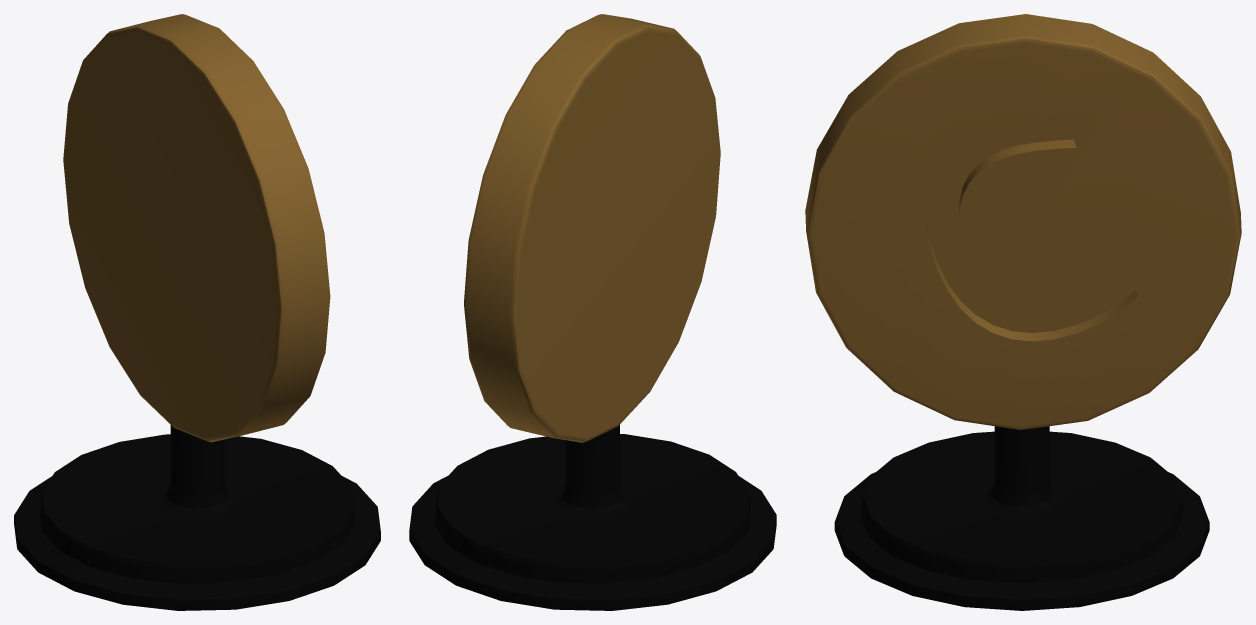
File: coin_item.fbx
3 views of the same model, side by side, from view 1: azimuth 30°, elevation 25°; view 2: azimuth 150°, elevation 25°; view 3: azimuth 270°, elevation 25° (orthographic).
Parts seen in each view (by area): view 1: Coin; view 2: Coin; view 3: Coin.
Part boxes in pixels (bbox=[...]): Coin: bbox=[14, 14, 380, 610]; Coin: bbox=[409, 14, 776, 610]; Coin: bbox=[805, 14, 1241, 610].
Size of the model in its own units: 2 by 2.99 by 2.33.
